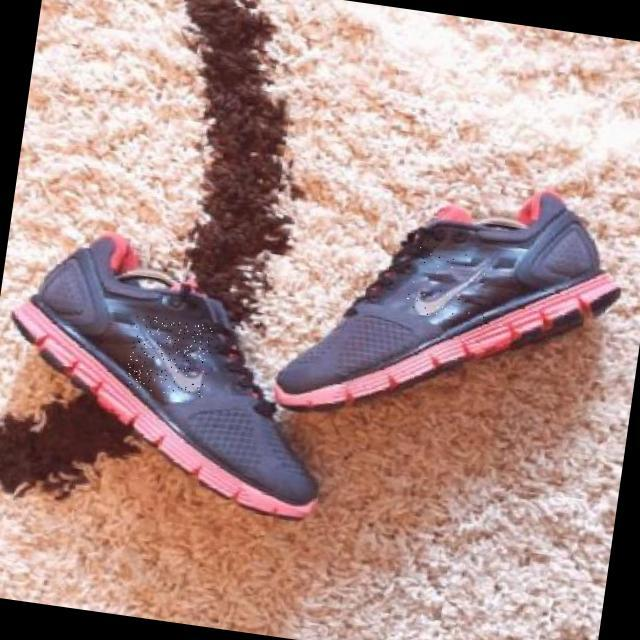Nike: (405, 239, 500, 326), (125, 315, 214, 399)
